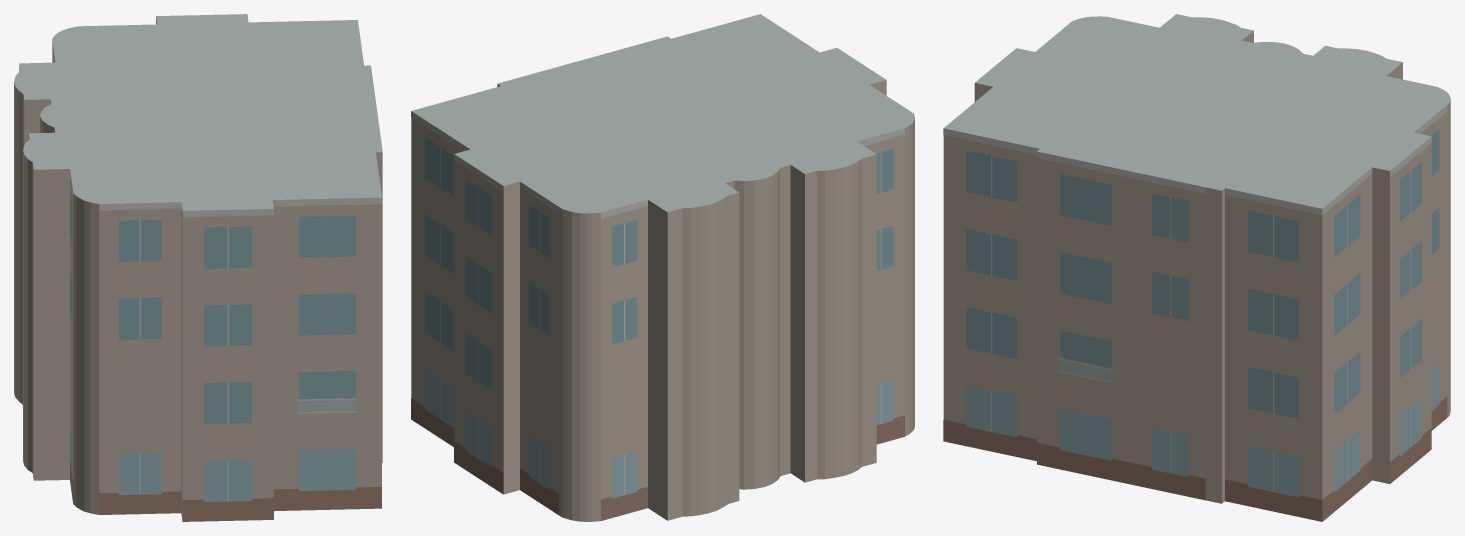
The model's file is survey-upis-32741434.glb.
The picture shows the model from 3 angles, left to right: view 1: azimuth 30°, elevation 25°; view 2: azimuth 150°, elevation 25°; view 3: azimuth 270°, elevation 25°; orthographic projection.
Visible parts, largest first — view 1: survey-upis-32741434.tmp; view 2: survey-upis-32741434.tmp; view 3: survey-upis-32741434.tmp.
Boxes of the visible parts, left/top/right/bottom form: survey-upis-32741434.tmp: left=14, top=14, right=382, bottom=521; survey-upis-32741434.tmp: left=411, top=14, right=914, bottom=521; survey-upis-32741434.tmp: left=943, top=14, right=1450, bottom=521.
Size of the model in its own units: 15.63 by 11.7 by 17.18.
